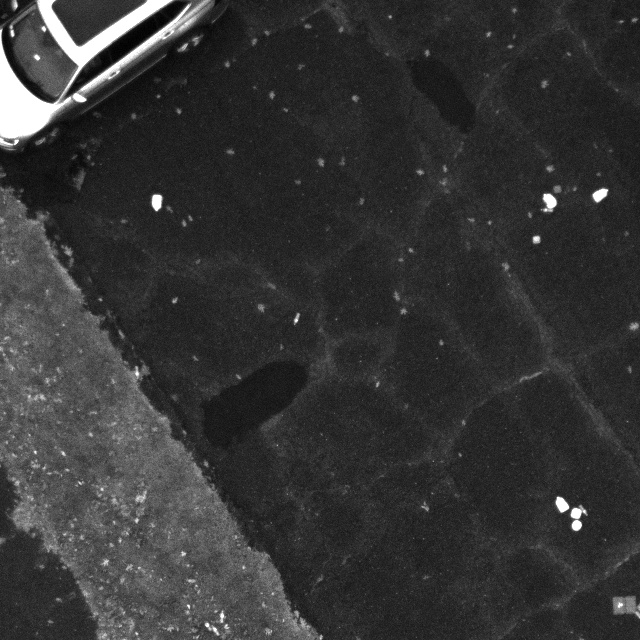bottle: (291, 310, 303, 326), (132, 362, 143, 379), (538, 205, 556, 215), (579, 503, 590, 518)
can: (588, 185, 613, 205), (552, 494, 572, 514), (540, 192, 559, 210), (149, 193, 164, 212), (568, 506, 582, 520), (570, 520, 585, 533)
container: (550, 183, 564, 196), (530, 233, 543, 246)
